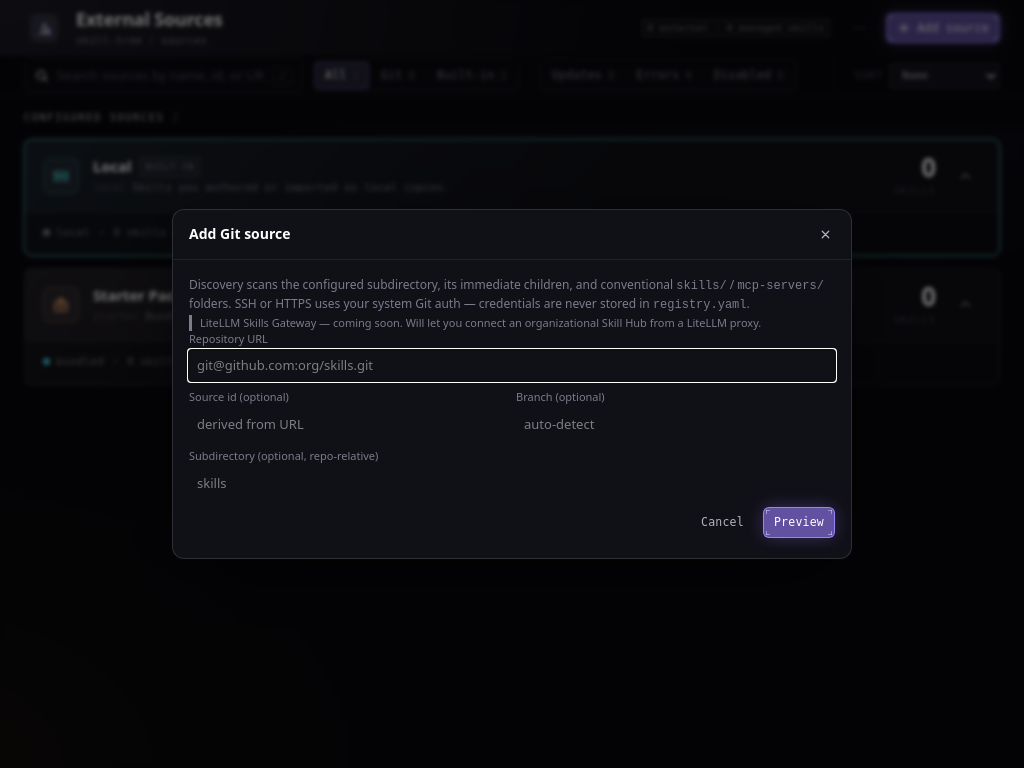
it: AddSourceModal — source-id derivation & collision › shows an inline error and blocks Preview when the typed id collides
Type "git@github.com:org/other.git" into the field with placeholder "git@github.com:org/skills.git".
click(512, 366); type("git@github.com:org/other.git")  # box top-left (189, 350), bottom-right (835, 381)
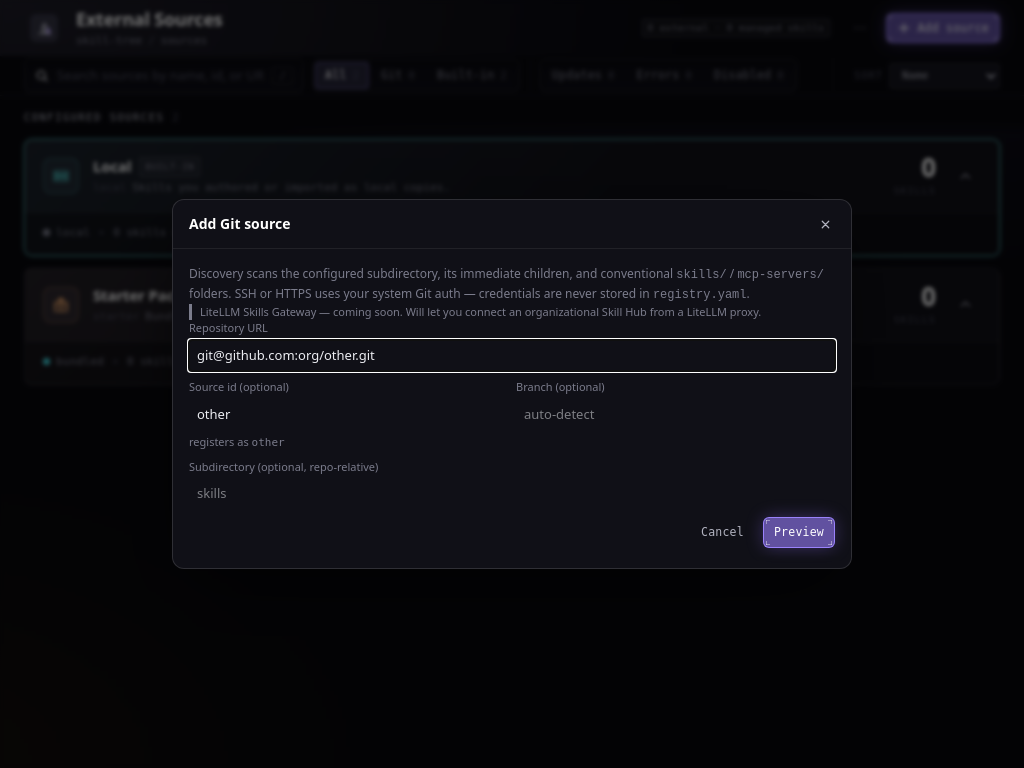
Check: the field with placeholder "derived from URL" holds "other"
Manually type a colliding id.
Replace the text in the field with placeholder "derived from URL" with "skills" at (348, 414), box top-left (189, 399), bottom-right (508, 430)
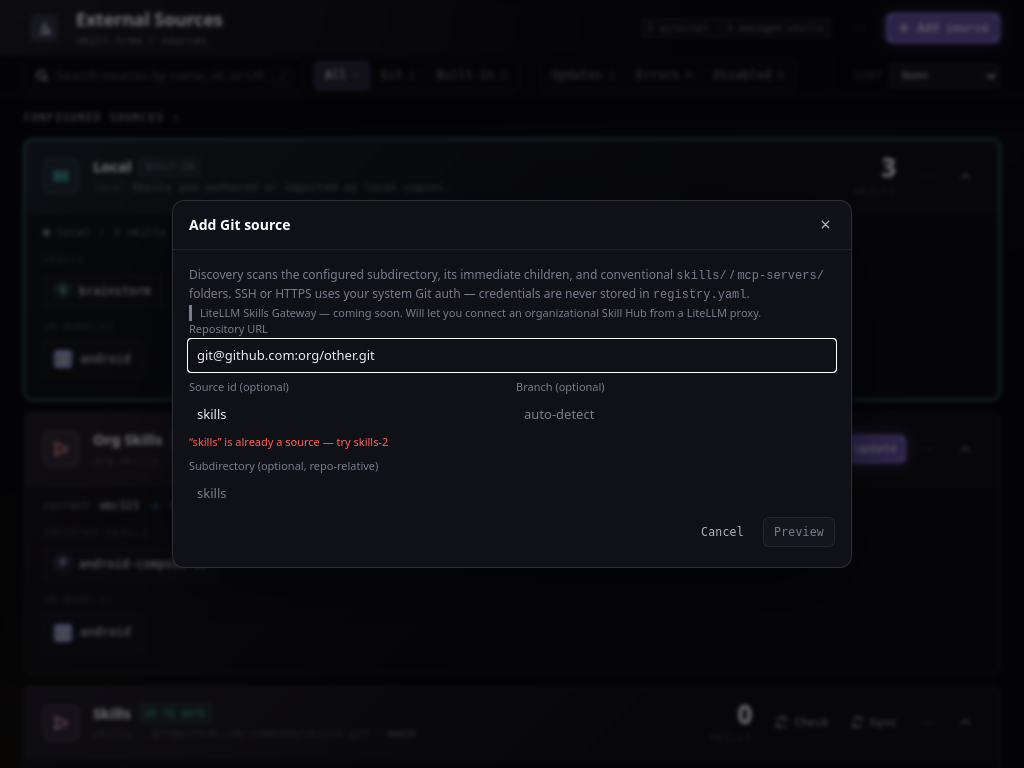
Check: the text with test id "source-id-error" shows "already a source", box top-left (189, 434), bottom-right (388, 449)
Check: the button "Preview" is disabled, box top-left (763, 517), bottom-right (835, 548)
